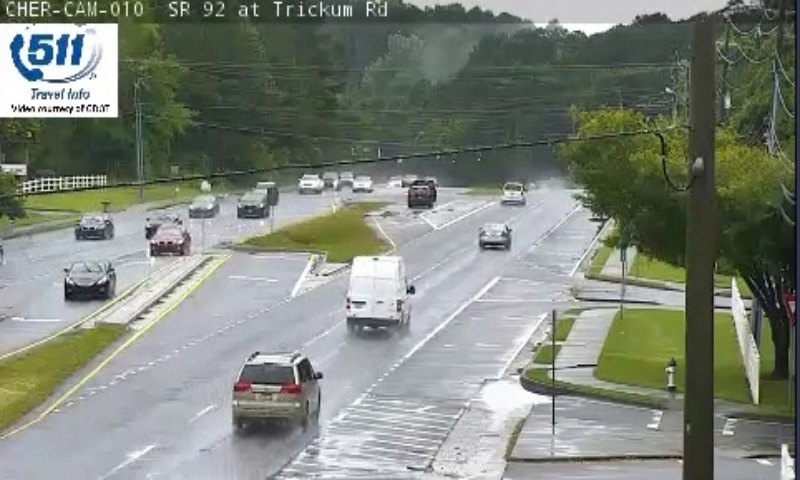car: (232, 355, 320, 420), (479, 221, 509, 245), (502, 182, 522, 202)
van: (348, 256, 409, 324)
